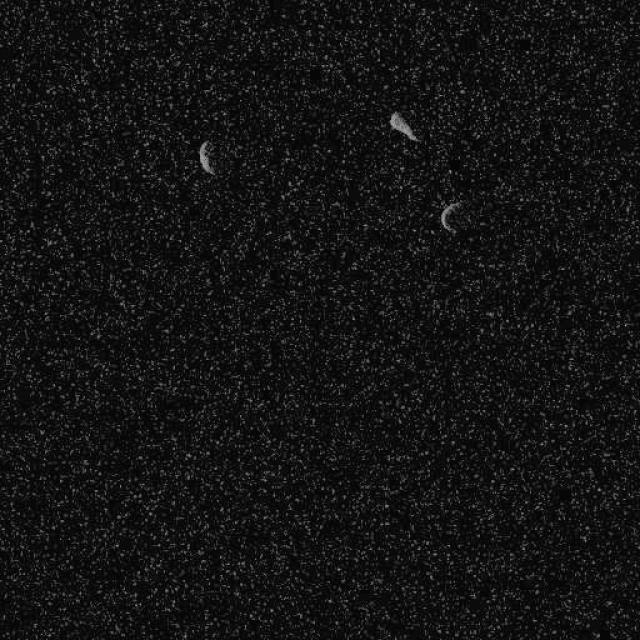D2: (388, 110, 420, 142), (439, 200, 465, 234), (198, 139, 216, 176)
